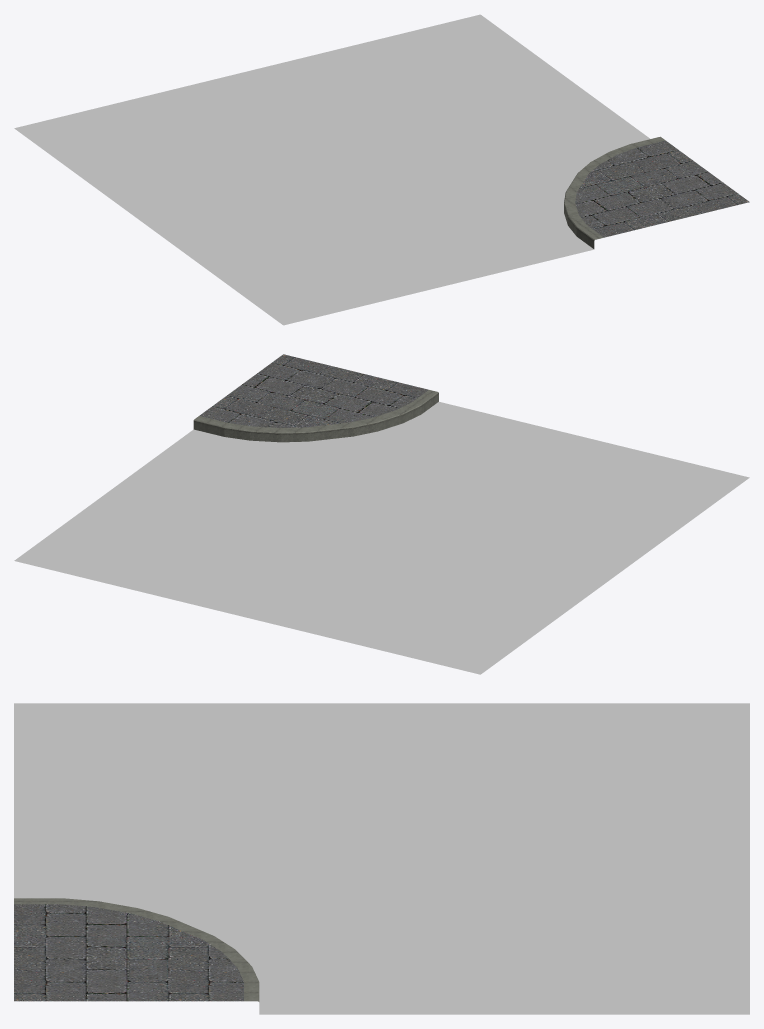
Rendered from CT_Road_Corner_003.fbx.
The picture shows the model from 3 angles, top to bottom: view 1: azimuth 30°, elevation 25°; view 2: azimuth 150°, elevation 25°; view 3: azimuth 270°, elevation 25°; orthographic projection. The views are drawn at different scales.
Visible parts, largest first — view 1: CT_Road_Corner_003; view 2: CT_Road_Corner_003; view 3: CT_Road_Corner_003.
Part boxes in pixels (<box>): CT_Road_Corner_003: <box>14,14,749,325</box>; CT_Road_Corner_003: <box>14,354,749,674</box>; CT_Road_Corner_003: <box>14,703,749,1014</box>.
Bounding box in the file's own units: 768 × 15 × 768.
